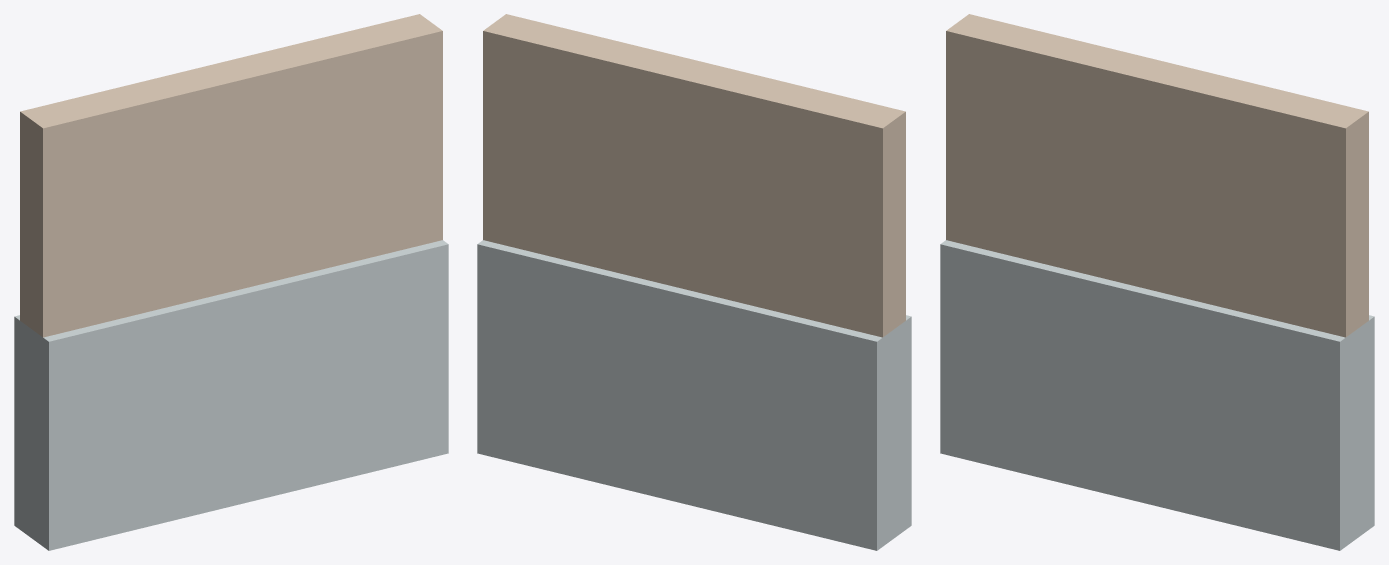
The model's file is Office-Room-4-Wall-2.fbx.
3 renders of one model, left to right at view 1: azimuth 30°, elevation 25°; view 2: azimuth 150°, elevation 25°; view 3: azimuth 330°, elevation 25°, orthographic.
Parts seen in each view (by area): view 1: Office-Door-4-Wall-2; view 2: Office-Door-4-Wall-2; view 3: Office-Door-4-Wall-2.
Part boxes in pixels (<box>): Office-Door-4-Wall-2: <box>14,14,448,550</box>; Office-Door-4-Wall-2: <box>477,14,911,550</box>; Office-Door-4-Wall-2: <box>940,14,1374,550</box>.
Bounding box in the file's own units: 2 × 2 × 0.3.
